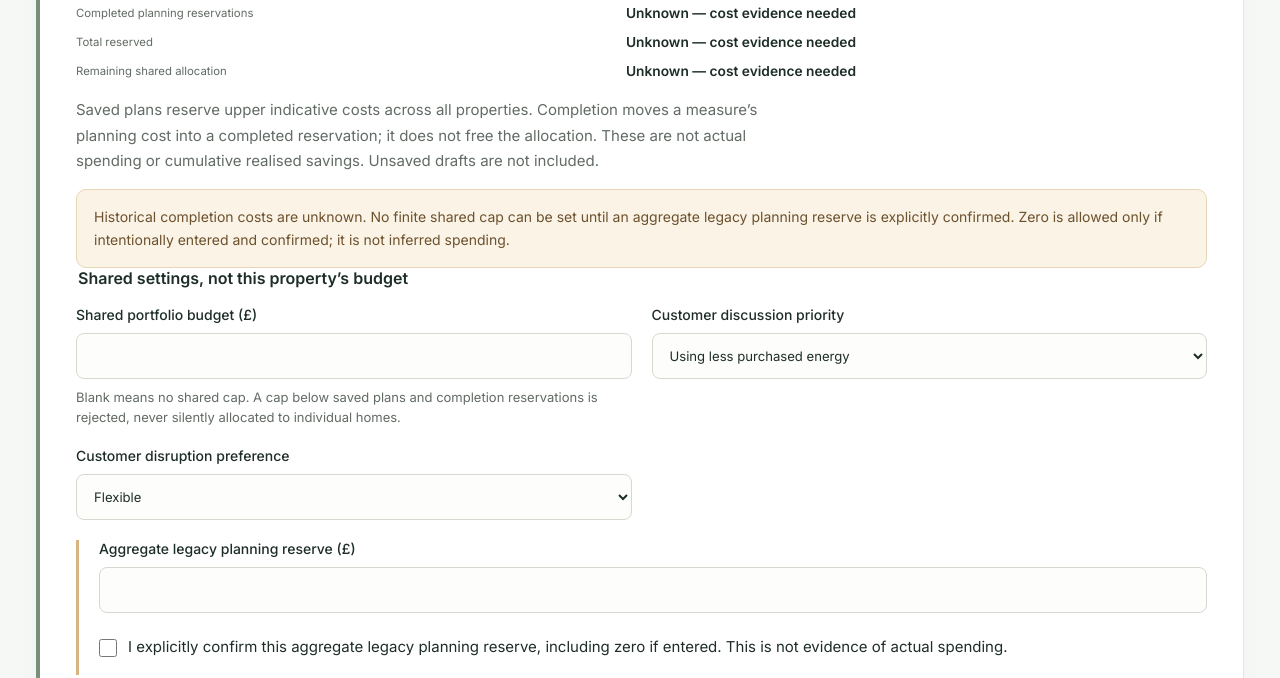
Test: customer-wide settings, independent budgets and asynchronous boundaries › requires explicit legacy reserve confirmation (including zero) before setting a finite shared cap
The image size is (1280, 678).
(page scrolled)
Expected: the text "Historical completion costs are unknown" is shown, x1=94 y1=208 x2=1163 y2=248
Type "12000" into the number field labelled "Shared portfolio budget (£)" at (354, 356), box x1=76 y1=333 x2=632 y2=379
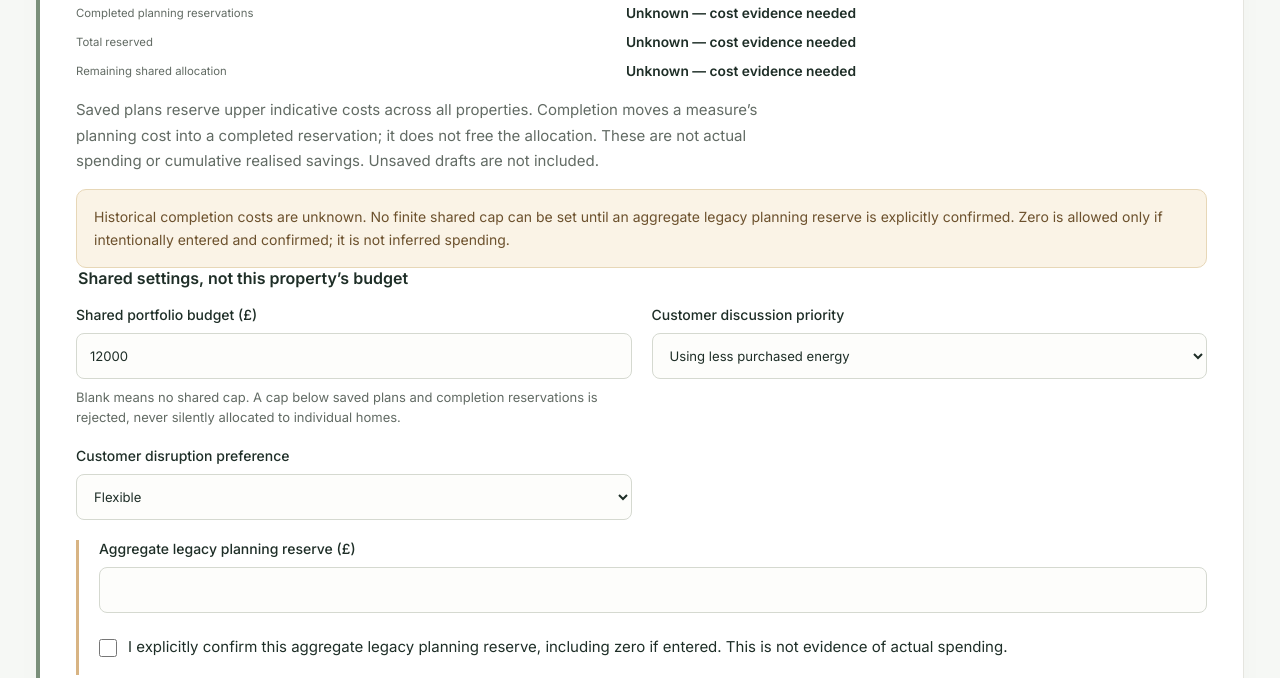
Type "0" into the number field labelled "Aggregate legacy planning reserve (£)" at (653, 590), box x1=99 y1=567 x2=1207 y2=613
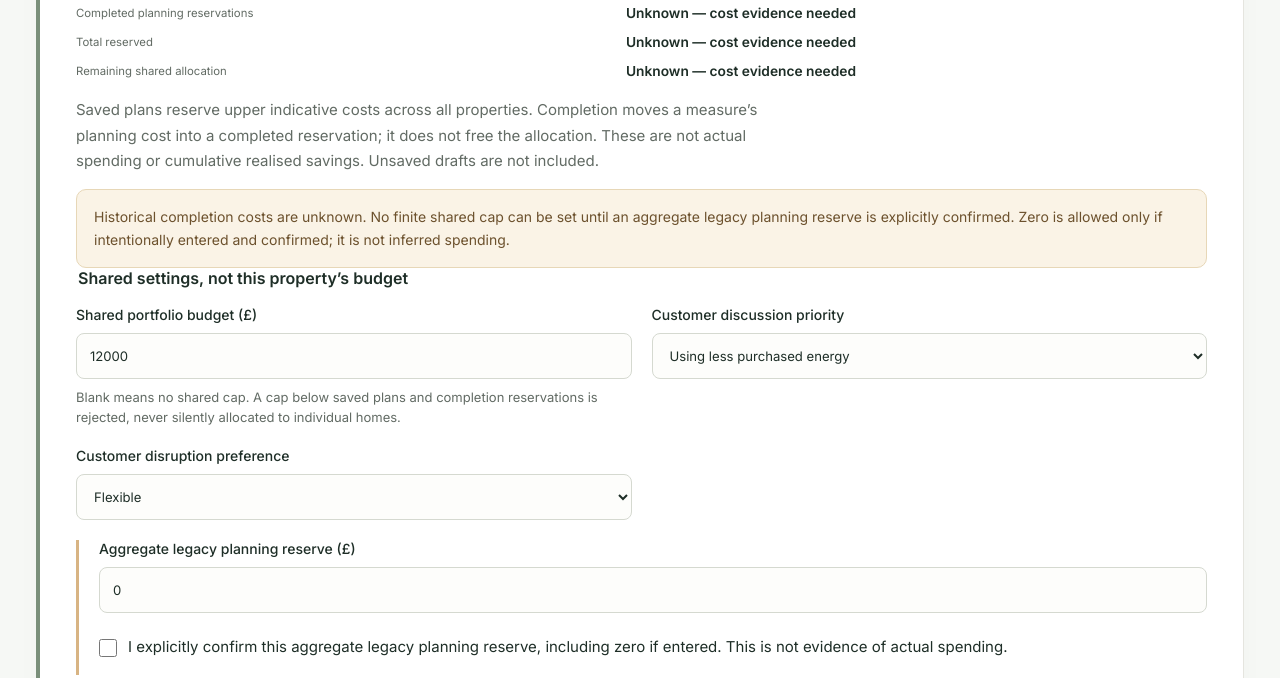
Click the checkbox labelled "explicitly confirm this aggregate legacy" at (108, 648), box x1=99 y1=639 x2=117 y2=657
(page scrolled)
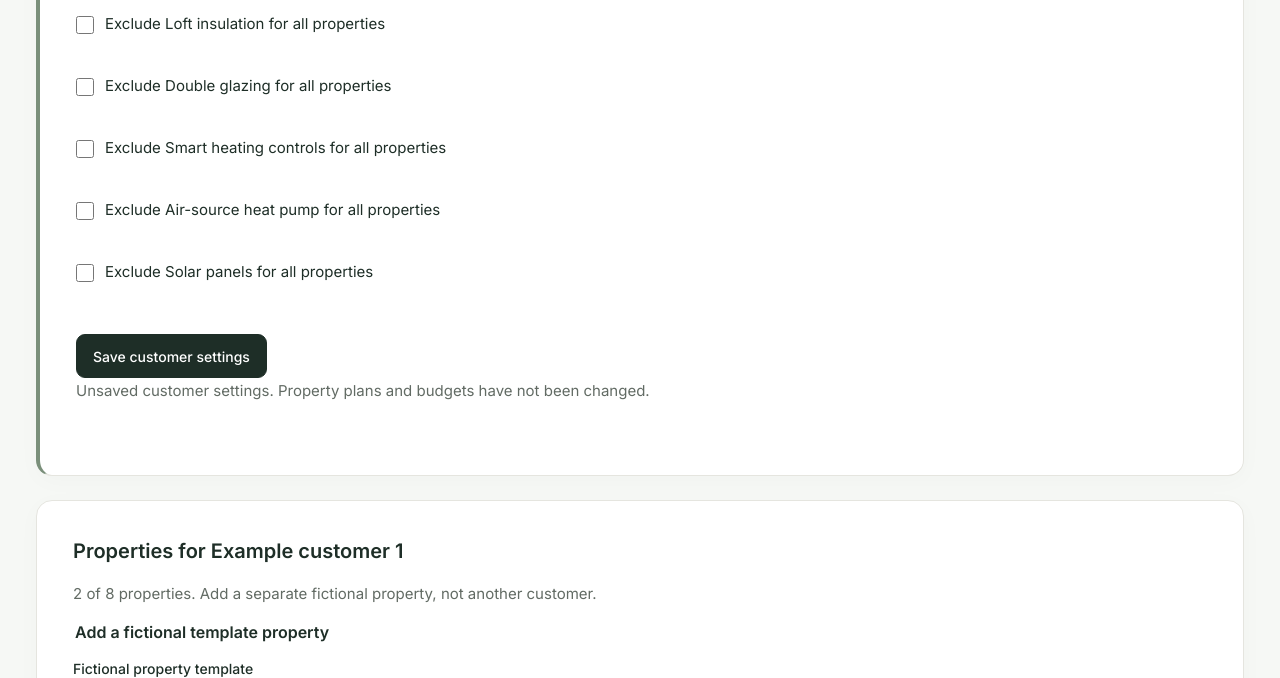
Click the button "Save customer settings" at (171, 356), box x1=76 y1=334 x2=267 y2=378
(page scrolled)
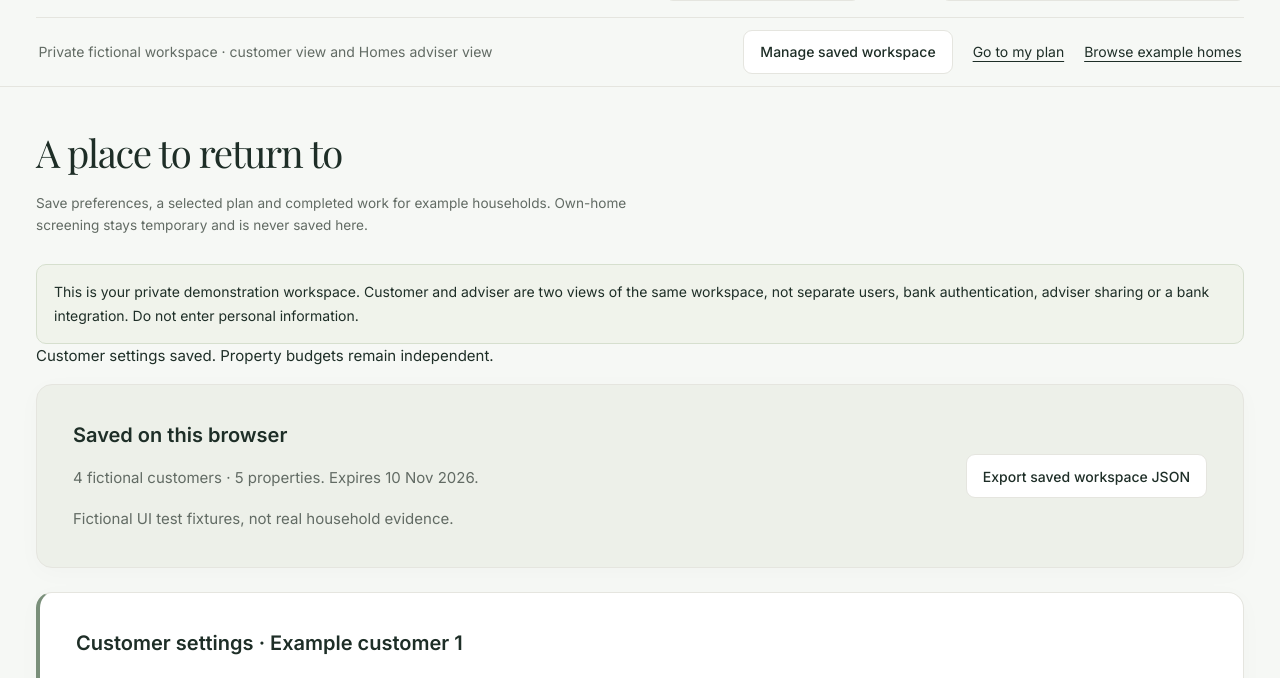
Result: the text "Customer settings saved. Property budgets remain independent." is shown at x1=36 y1=346 x2=494 y2=365
